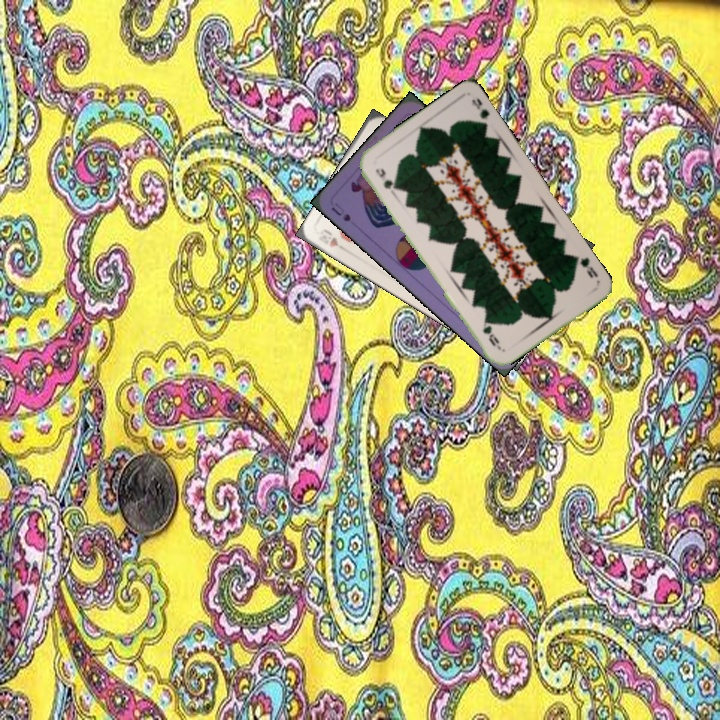G9: (570, 252, 600, 281), (371, 164, 398, 196)
H10: (319, 225, 341, 250)
SU: (327, 198, 353, 224)
